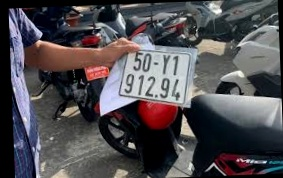Bien-so: (111, 42, 195, 104)
